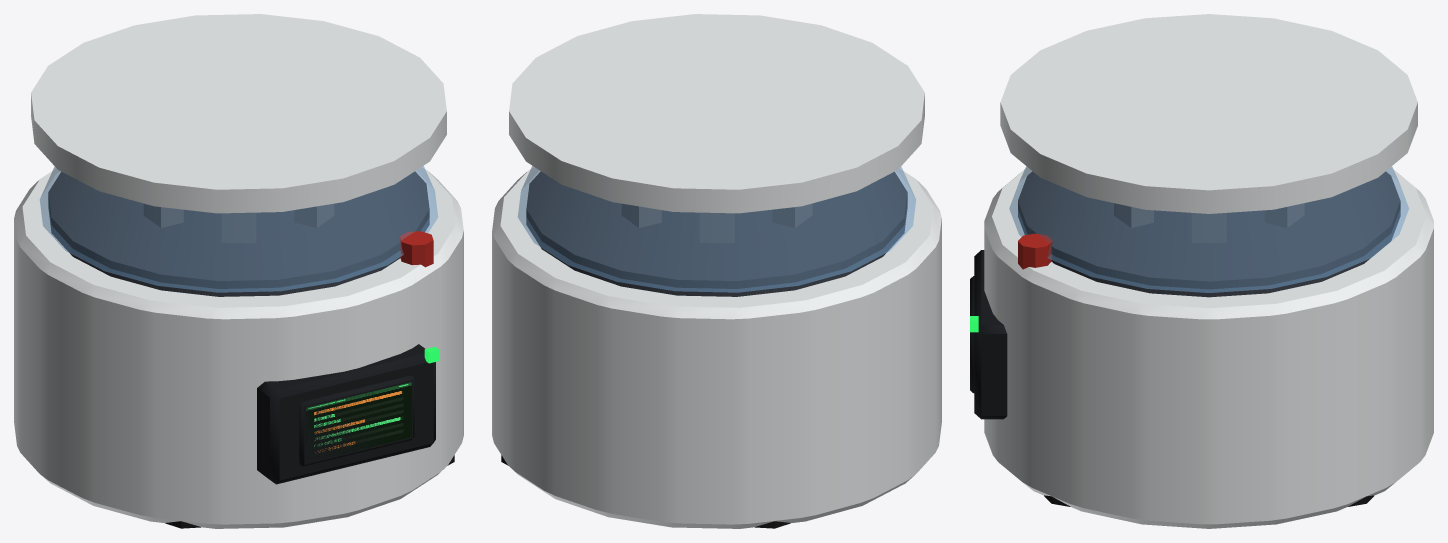
File: analyzer_centrifuge.glb
The picture shows the model from 3 angles, left to right: view 1: azimuth 30°, elevation 25°; view 2: azimuth 150°, elevation 25°; view 3: azimuth 270°, elevation 25°; orthographic projection.
Parts seen in each view (by area): view 1: analyzer_centrifuge; view 2: analyzer_centrifuge; view 3: analyzer_centrifuge.
Part boxes in pixels (box(x1,y1,x2,y2)): analyzer_centrifuge: box(14, 14, 463, 528); analyzer_centrifuge: box(492, 14, 941, 528); analyzer_centrifuge: box(970, 14, 1433, 528).
Size of the model in its own units: 0.5169 by 0.425 by 0.5334.
10 materials, 1 textured.
